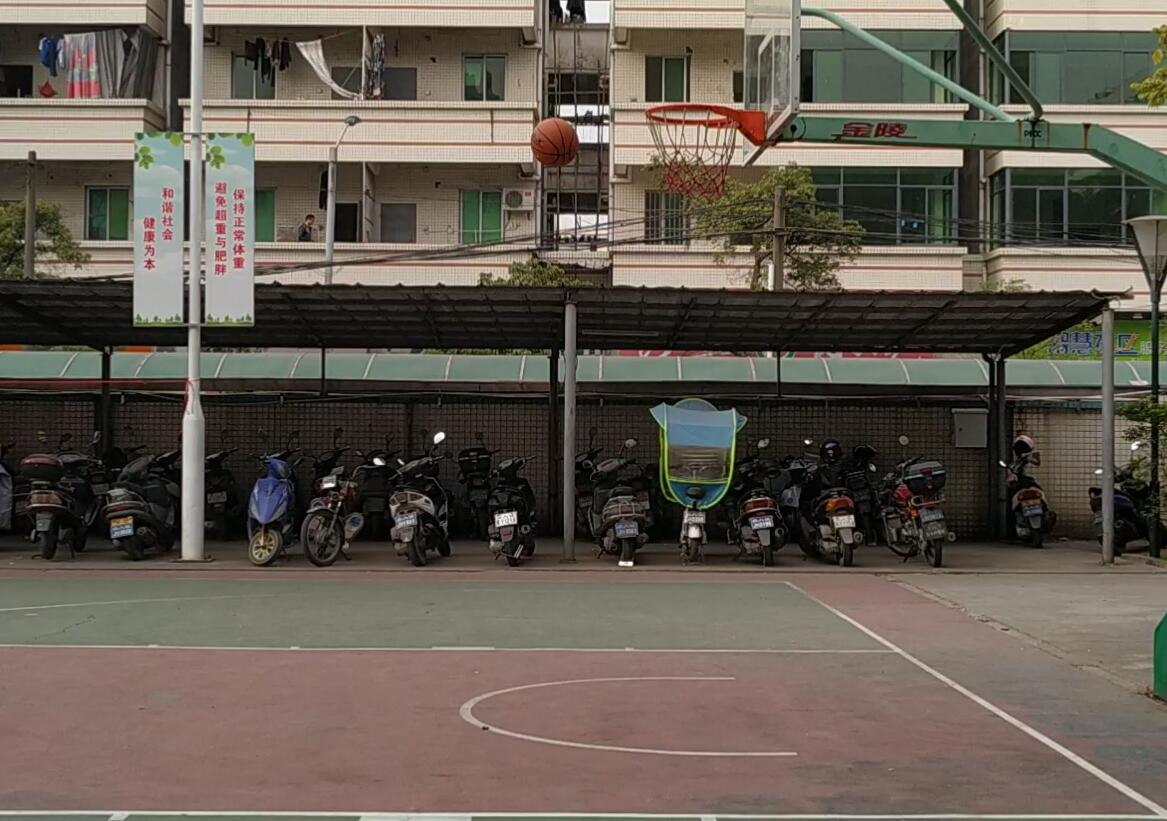basketball: (528, 115, 580, 167)
